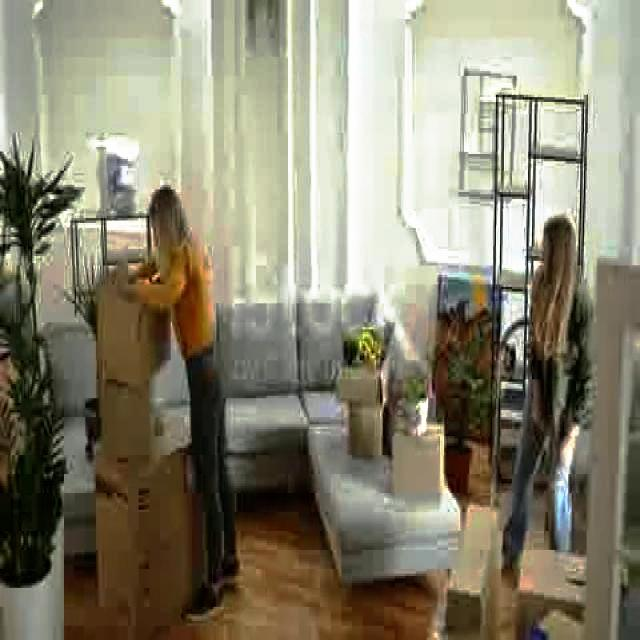Box: (96, 467, 183, 602), (99, 286, 170, 374), (453, 502, 500, 633), (514, 542, 582, 628), (394, 422, 452, 507), (102, 384, 154, 467), (342, 379, 378, 446)
